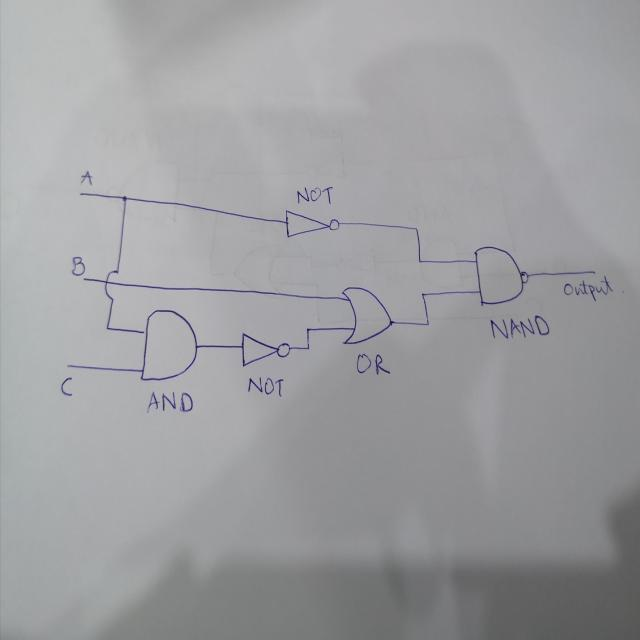crossover: (103, 265, 119, 303)
junction: (120, 192, 128, 206), (104, 321, 112, 333), (412, 223, 420, 235), (419, 290, 426, 301), (423, 319, 431, 328), (416, 255, 422, 265), (305, 344, 311, 352), (304, 324, 310, 332)
terminal: (589, 266, 597, 277), (80, 274, 88, 285), (65, 360, 71, 369), (78, 189, 84, 198)
text: (490, 312, 550, 342), (562, 272, 614, 305), (147, 389, 194, 415), (354, 350, 391, 378), (247, 372, 285, 399), (295, 184, 335, 208), (68, 252, 86, 277), (59, 372, 72, 396), (79, 169, 92, 187)
